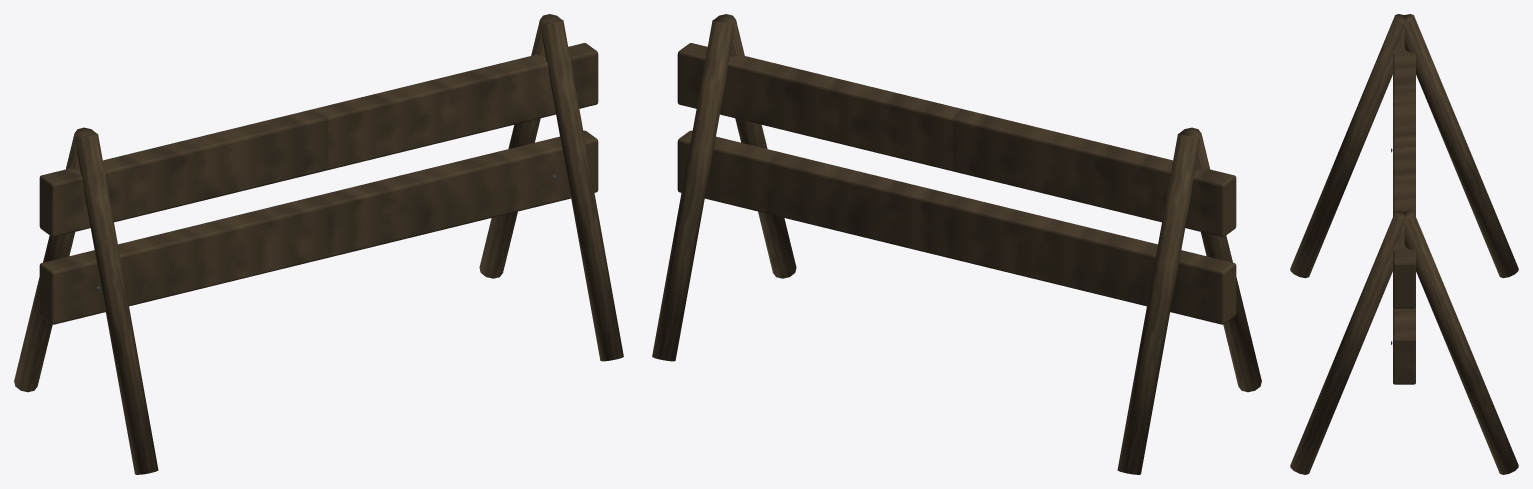
File: barricade.glb
3 renders of one model, left to right at view 1: azimuth 30°, elevation 25°; view 2: azimuth 150°, elevation 25°; view 3: azimuth 270°, elevation 25°, orthographic. The views are drawn at different scales.
Visible parts, largest first — view 1: Splintered_plank, Splintered_plank.001, Trestle.002, Trestle, Trestle.001, Trestle.003; view 2: Splintered_plank, Splintered_plank.001, Trestle.003, Trestle.001, Trestle, Trestle.002; view 3: Trestle, Trestle.001, Trestle.003, Trestle.002, Splintered_plank.001, Splintered_plank.
Boxes of the visible parts, box(x1,y1,x2,y2) form: Splintered_plank: box(39, 130, 598, 324); Splintered_plank.001: box(39, 43, 598, 236); Trestle.002: box(541, 20, 623, 361); Trestle: box(76, 133, 158, 474); Trestle.001: box(14, 127, 96, 392); Trestle.003: box(479, 14, 561, 278); Splintered_plank: box(677, 130, 1236, 324); Splintered_plank.001: box(677, 43, 1236, 236); Trestle.003: box(652, 20, 734, 361); Trestle.001: box(1117, 133, 1199, 474); Trestle: box(1179, 127, 1261, 392); Trestle.002: box(714, 14, 796, 278); Trestle: box(1290, 14, 1404, 278); Trestle.001: box(1404, 14, 1518, 278); Trestle.003: box(1404, 210, 1518, 474); Trestle.002: box(1290, 210, 1404, 474); Splintered_plank.001: box(1393, 47, 1415, 308); Splintered_plank: box(1393, 307, 1415, 384).
Size of the model in its own units: 2.35 by 1.23 by 0.9801.
2 materials, 2 textured.
